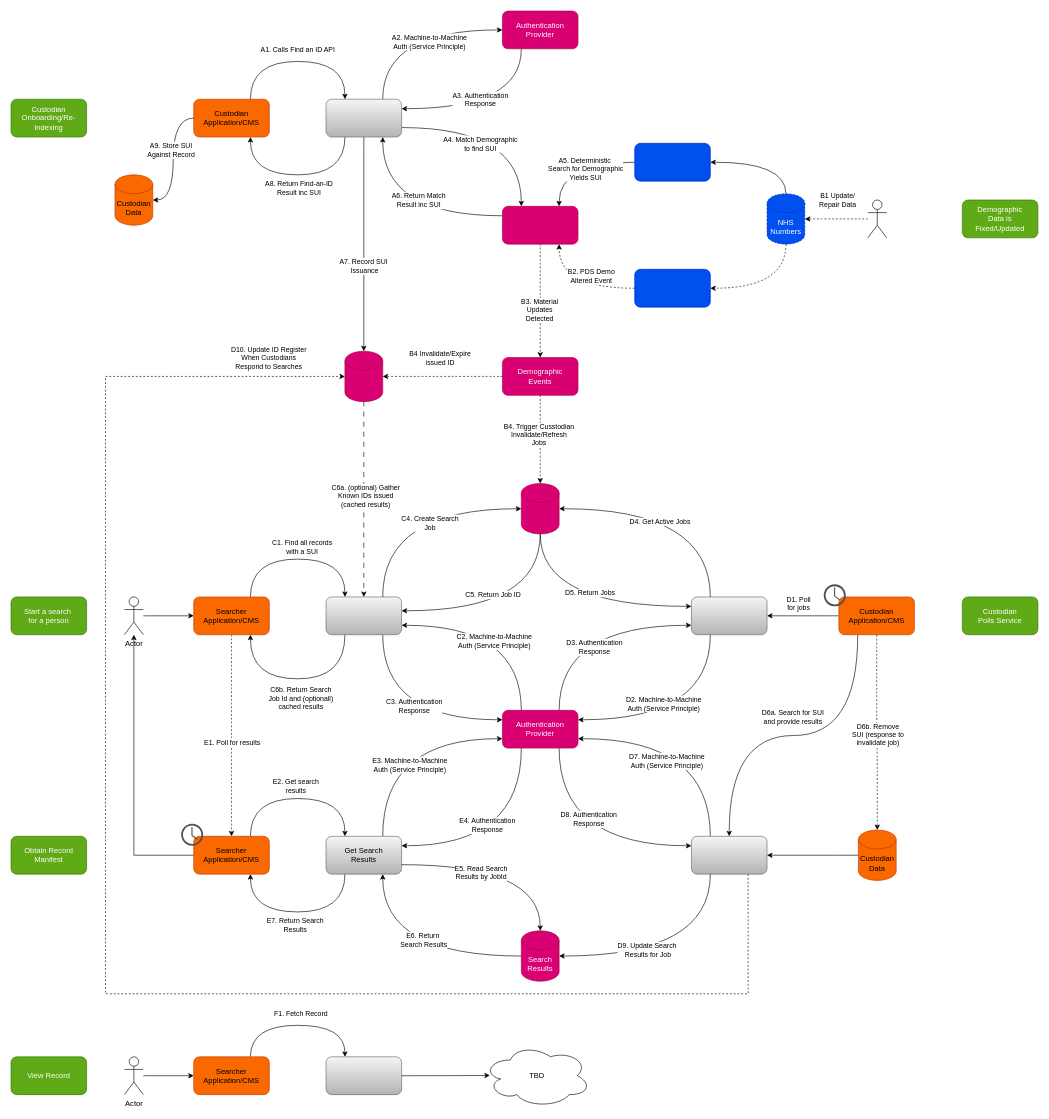
The diagram is 1049 pixels wide and 1119 high, and some of its shapes have lost their labels. Here are the shapes that lost their labels. From the top down, the box of each, then its label:
(325, 99, 402, 137): Find An ID
(634, 143, 710, 181): PDS / Auth Source
(502, 206, 578, 244): Demographics Adapter (PDS)
(867, 199, 887, 238): National Backoffice
(634, 269, 710, 307): NEMS / MNS
(344, 351, 383, 402): ID Register
(521, 483, 559, 534): Jobs
(325, 596, 402, 635): Find a Record
(691, 596, 767, 635): Get Jobs
(691, 836, 767, 874): Update Search Results
(325, 1056, 402, 1095): Fetch Record
